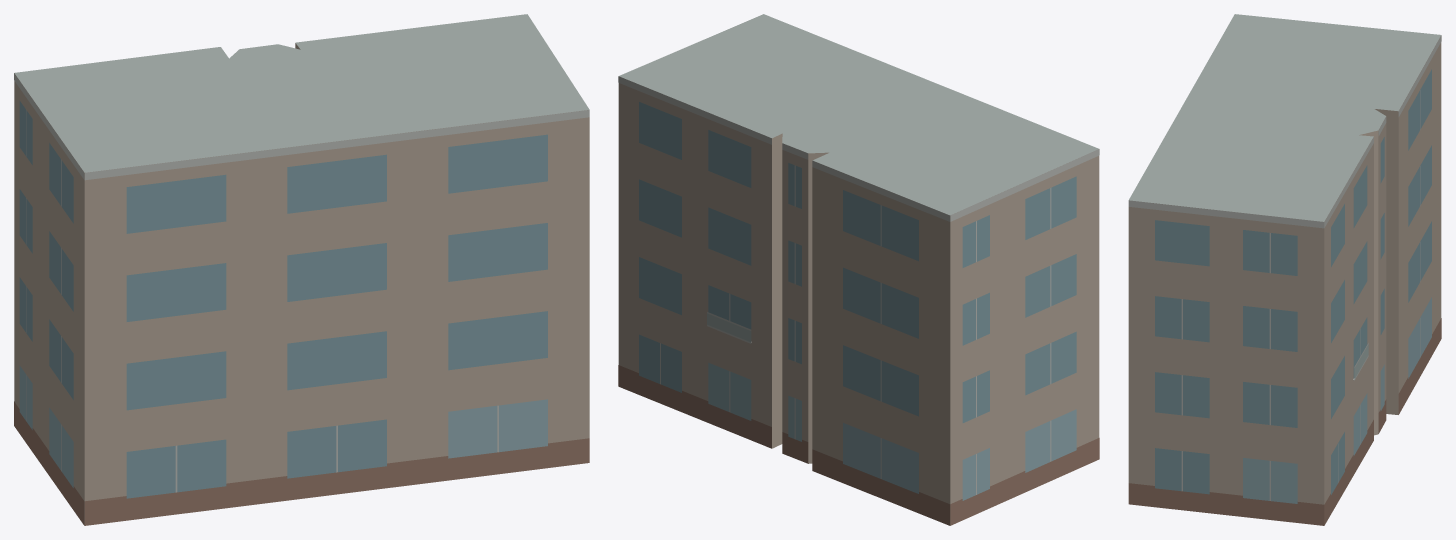
File: survey-upis-32532037.glb
The picture shows the model from 3 angles, left to right: view 1: azimuth 30°, elevation 25°; view 2: azimuth 150°, elevation 25°; view 3: azimuth 270°, elevation 25°; orthographic projection. The views are drawn at different scales.
Visible parts, largest first — view 1: survey-upis-32532037.tmp; view 2: survey-upis-32532037.tmp; view 3: survey-upis-32532037.tmp.
Part boxes in pixels (box(x1,y1,x2,y2)): survey-upis-32532037.tmp: box(14, 14, 589, 525); survey-upis-32532037.tmp: box(618, 14, 1099, 525); survey-upis-32532037.tmp: box(1128, 14, 1441, 525).
Size of the model in its own units: 16.88 by 11.5 by 10.74.
